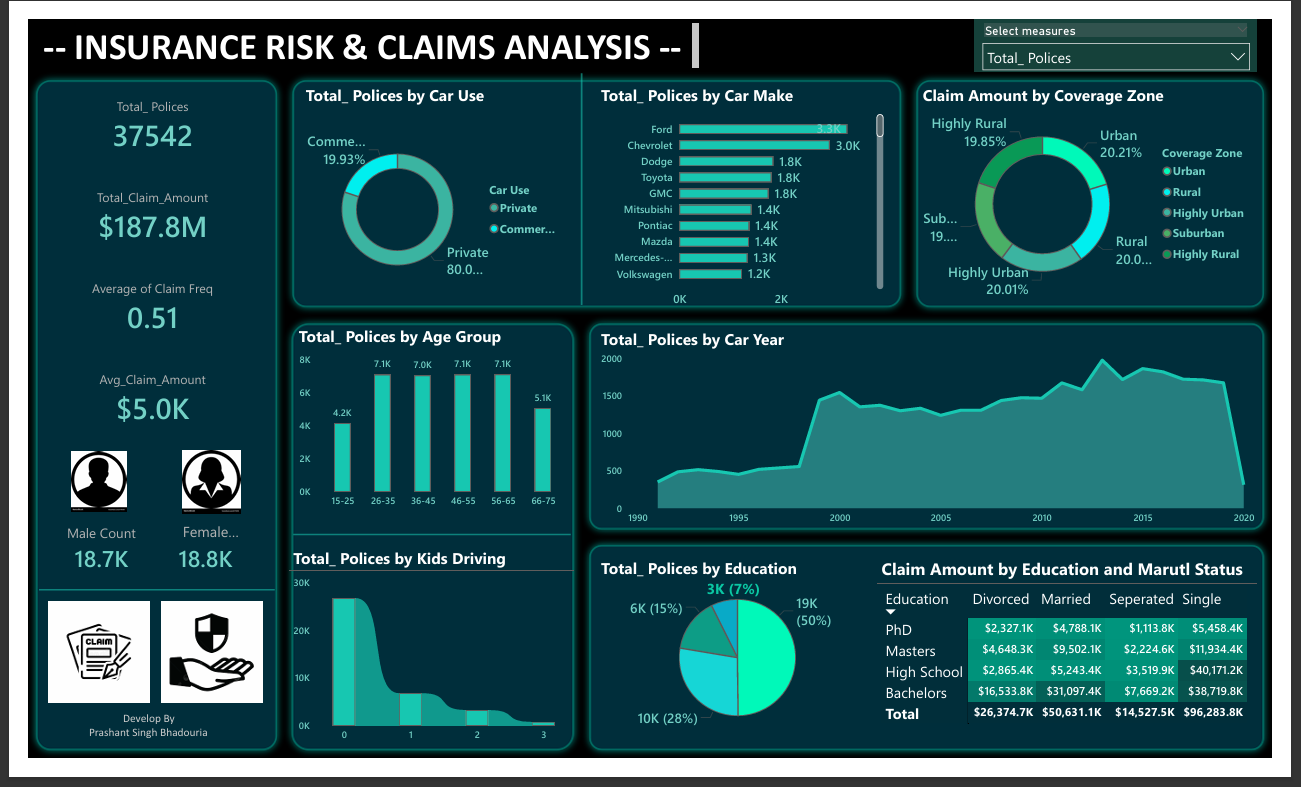

The page's visual inventory and layout, read from the dashboard file:
{"tool":"powerbi","page":{"name":"Page 1","canvas":[1600,950],"ordinal":0},"visuals":[{"type":"textbox","box":[14.3,0,853.2,68.4],"z":1000},{"type":"shape","box":[329.5,68.4,803.9,312],"z":2000},{"type":"shape","box":[0,68.4,329.5,881.9],"z":3000},{"type":"cardVisual","fields":{"Data":["insurance_data_car.Total_ Polices","insurance_data_car.Total_Claim_Amount","Avg(insurance_data_car.Claim Freq)","insurance_data_car.Avg_Claim_Amount"]},"box":[25.5,82.8,270.6,460],"z":4000},{"type":"cardVisual","fields":{"Data":["insurance_data_car.Male Count","insurance_data_car.Female Count"]},"box":[31.8,624,259.5,109.8],"z":5000},{"type":"image","box":[46.2,550.8,87.6,87.6],"z":6000},{"type":"image","box":[191,549.2,89.1,90.7],"z":7000},{"type":"shape","box":[1133.4,68.4,466.4,312],"z":8000},{"type":"donutChart","fields":{"Y":["insurance_data_car.Total_ Polices"],"Category":["insurance_data_car.Car Use"]},"box":[351.8,82.8,348.6,297.7],"z":9000},{"type":"shape","box":[329.3,380.8,382.5,569.5],"z":10000},{"type":"barChart","fields":{"Y":["insurance_data_car.Total_ Polices"],"Category":["insurance_data_car.Car Make"]},"box":[732.2,82.8,372.5,297.7],"z":11000},{"type":"donutChart","title":"Claim Amount by Coverage Zone","fields":{"Y":["insurance_data_car.Total_ Polices"],"Category":["insurance_data_car.Coverage Zone"]},"box":[1146.1,82.8,444.1,283.3],"z":12000},{"type":"slicer","fields":{"Values":["Select measures.Select measures"]},"box":[1217.8,0,364.5,68.4],"z":13000},{"type":"clusteredColumnChart","fields":{"Y":["insurance_data_car.Total_ Polices"],"Category":["insurance_data_car.Age Group"]},"box":[343.1,392.8,356.8,245.3],"z":14000},{"type":"ribbonChart","fields":{"Y":["insurance_data_car.Total_ Polices"],"Category":["insurance_data_car.Kids Driving"]},"box":[336.2,677.5,365.4,260.7],"z":15000},{"type":"shape","box":[711.8,380.8,888.5,284.7],"z":16000},{"type":"areaChart","fields":{"Y":["insurance_data_car.Total_ Polices"],"Category":["insurance_data_car.Car Year"]},"box":[732.4,396.2,850.8,262.4],"z":17000},{"type":"shape","box":[711.8,665.5,888.5,284.7],"z":18000},{"type":"pieChart","fields":{"Y":["insurance_data_car.Total_ Polices"],"Category":["insurance_data_car.Education"]},"box":[732.4,691.3,360.2,233.3],"z":19000},{"type":"pivotTable","title":"Claim Amount  by Education and Marutl Status","fields":{"Rows":["insurance_data_car.Education"],"Columns":["insurance_data_car.Marital Status"],"Values":["insurance_data_car.Total_Claim_Amount"]},"box":[1092.6,691.3,488.9,233.3],"z":20000},{"type":"shape","box":[701.5,68.6,20.6,298.5],"z":21000},{"type":"shape","box":[341.3,658.7,356.8,6.9],"z":22000},{"type":"textbox","box":[867.9,713.6,78.9,37.7],"z":23000},{"type":"shape","box":[14.3,724.3,302.4,19.1],"z":24000},{"type":"image","box":[20.7,743.4,140.1,141.7],"z":25000},{"type":"image","box":[165.6,738.6,140.1,149.6],"z":26000},{"type":"textbox","box":[73.2,885.1,176.7,50.9],"z":27000}]}

Visuals, with their boxes in screenshot pixels (x1, y1, x2, y2), scaled from the page's 1600x950 canvas onto the 1301x787 screenshot:
textbox: 12/0/705/57
shape: 268/57/922/315
shape: 0/57/268/786
cardVisual - insurance_data_car.Total_ Polices x insurance_data_car.Total_Claim_Amount: 21/69/241/450
cardVisual - insurance_data_car.Male Count x insurance_data_car.Female Count: 26/517/237/608
image: 38/456/109/529
image: 155/455/228/530
shape: 922/57/1300/315
donutChart - insurance_data_car.Total_ Polices x insurance_data_car.Car Use: 286/69/570/315
shape: 268/315/579/786
barChart - insurance_data_car.Total_ Polices x insurance_data_car.Car Make: 595/69/898/315
"Claim Amount by Coverage Zone" donutChart: 932/69/1293/303
slicer - Select measures.Select measures: 990/0/1287/57
clusteredColumnChart - insurance_data_car.Total_ Polices x insurance_data_car.Age Group: 279/325/569/529
ribbonChart - insurance_data_car.Total_ Polices x insurance_data_car.Kids Driving: 273/561/570/777
shape: 579/315/1300/551
areaChart - insurance_data_car.Total_ Polices x insurance_data_car.Car Year: 596/328/1287/546
shape: 579/551/1300/786
pieChart - insurance_data_car.Total_ Polices x insurance_data_car.Education: 596/573/888/766
"Claim Amount  by Education and Marutl Status" pivotTable: 888/573/1286/766
shape: 570/57/587/304
shape: 278/546/568/551
textbox: 706/591/770/622
shape: 12/600/258/616
image: 17/616/131/733
image: 135/612/249/736
textbox: 60/733/203/775
